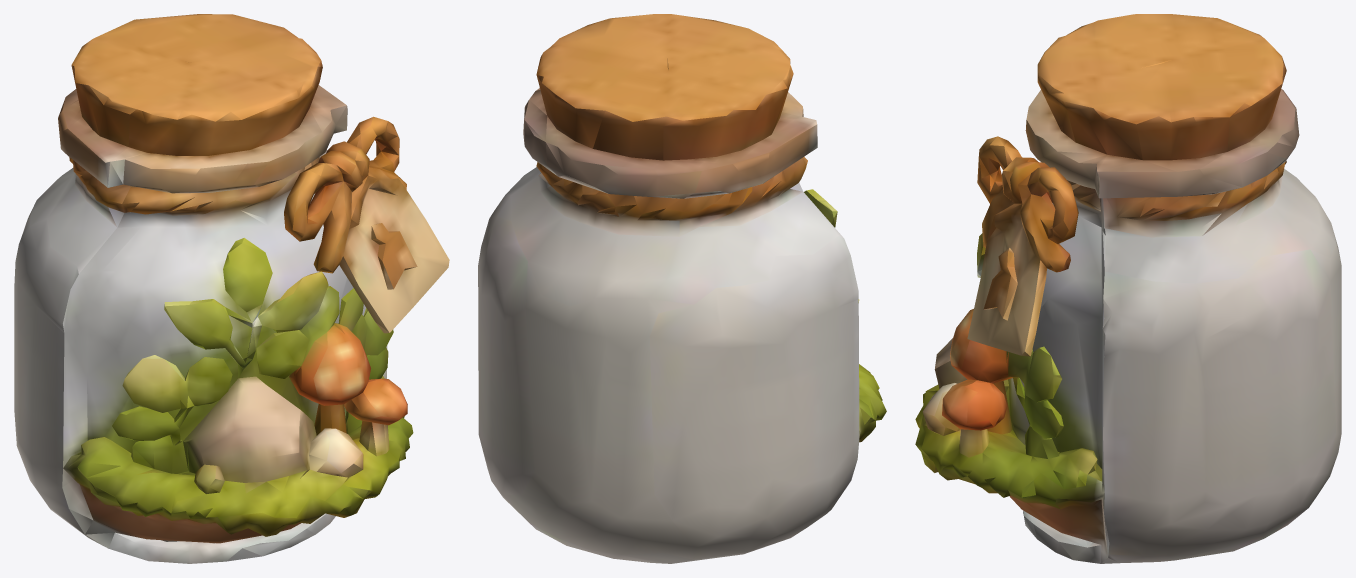
Rendered from deco39.glb.
3 renders of one model, left to right at view 1: azimuth 30°, elevation 25°; view 2: azimuth 150°, elevation 25°; view 3: azimuth 270°, elevation 25°, orthographic. The views are drawn at different scales.
Bounding box in the file's own units: 0.1873 × 0.227 × 0.195.
Materials: 1 (1 with a texture image).
